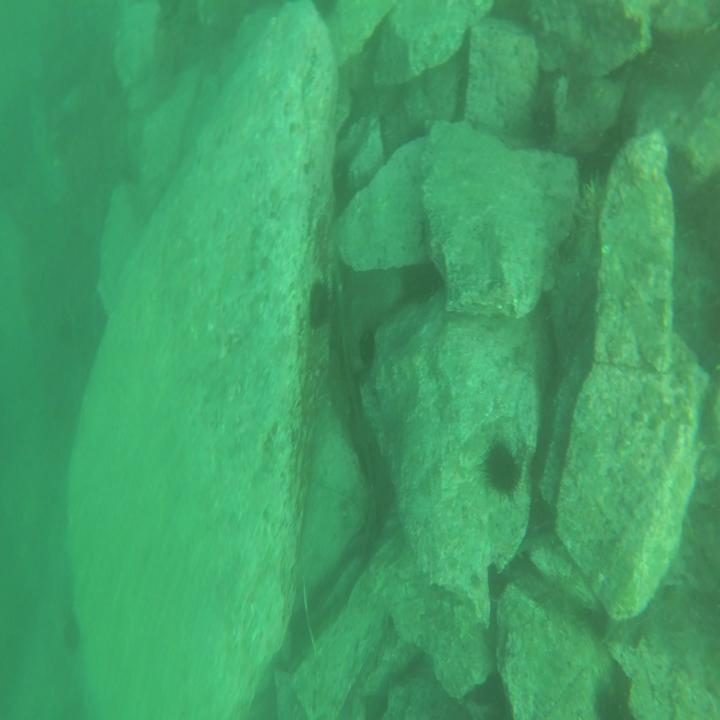echinus: (485, 441, 518, 497), (308, 280, 330, 330), (357, 326, 376, 367), (61, 616, 81, 654)
